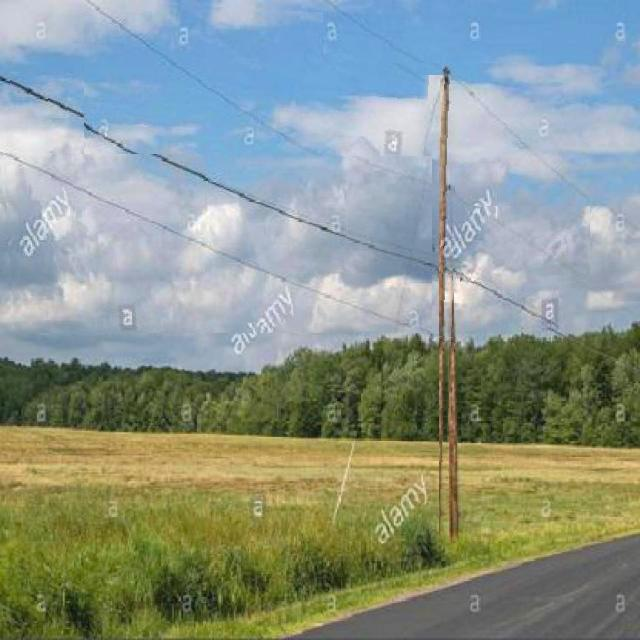pole: (439, 71, 455, 539)
wire: (0, 76, 440, 258), (3, 154, 432, 333), (84, 0, 419, 183), (455, 79, 598, 206), (466, 196, 590, 282), (323, 0, 432, 63), (454, 269, 559, 327)
